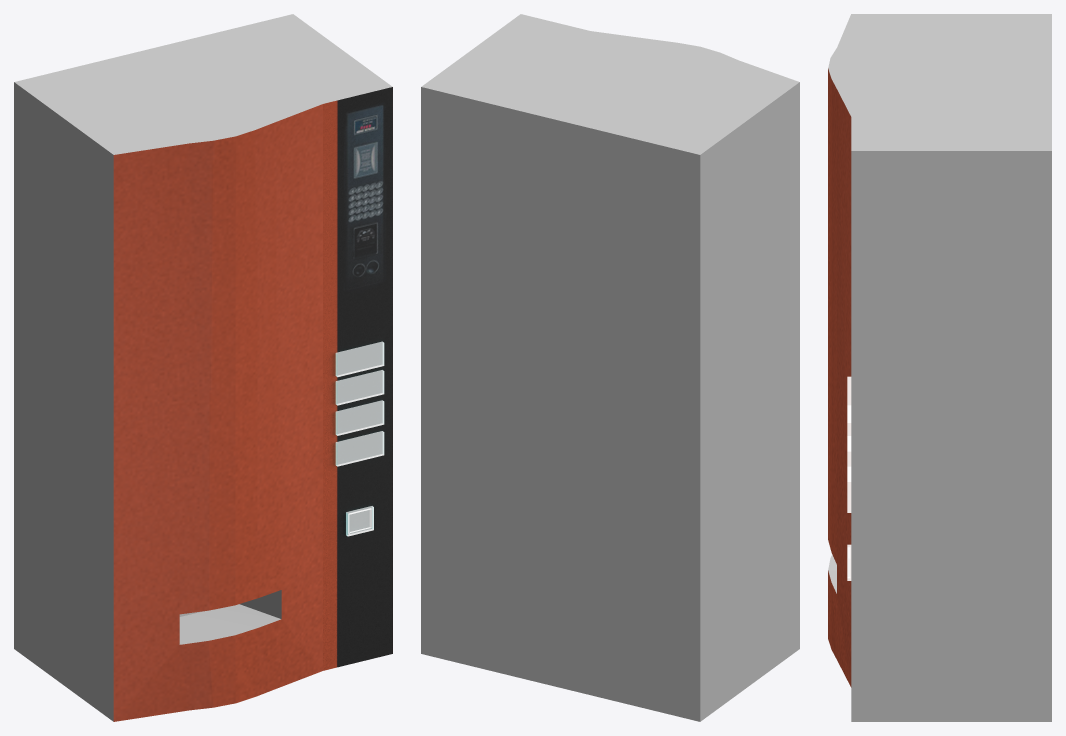
The model's file is vending_machine.dae.
3 views of the same model, side by side, from view 1: azimuth 30°, elevation 25°; view 2: azimuth 150°, elevation 25°; view 3: azimuth 270°, elevation 25° (orthographic).
Parts seen in each view (by area): view 1: Cube.003, Cube, Cube.001; view 2: Cube; view 3: Cube, Cube.003, Cube.001.
Part boxes in pixels (x1=…): Cube.003: x1=113, y1=87, x2=392, y2=721; Cube: x1=14, y1=14, x2=392, y2=721; Cube.001: x1=335, y1=341, x2=384, y2=536; Cube: x1=421, y1=14, x2=799, y2=721; Cube: x1=828, y1=14, x2=1051, y2=721; Cube.003: x1=828, y1=68, x2=851, y2=687; Cube.001: x1=847, y1=376, x2=851, y2=580.
Size of the model in its own units: 1.03 by 0.7102 by 2.
